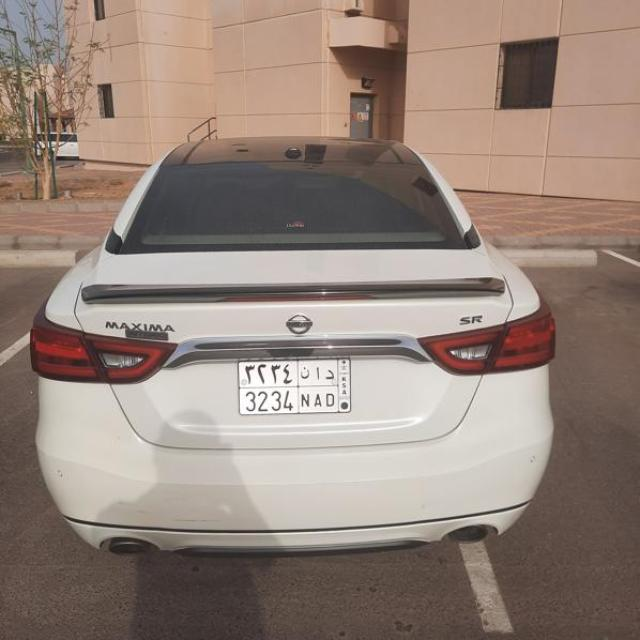license_plate: (238, 360, 354, 412)
